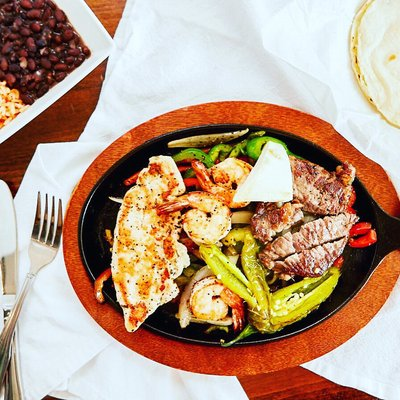burger: (0, 192, 64, 399), (0, 175, 18, 340)
sushi: (0, 0, 113, 147), (347, 0, 400, 132)
